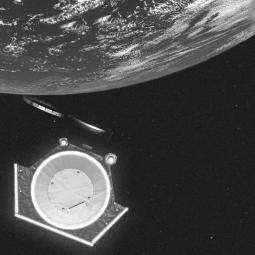cheops: (6, 104, 130, 240)
